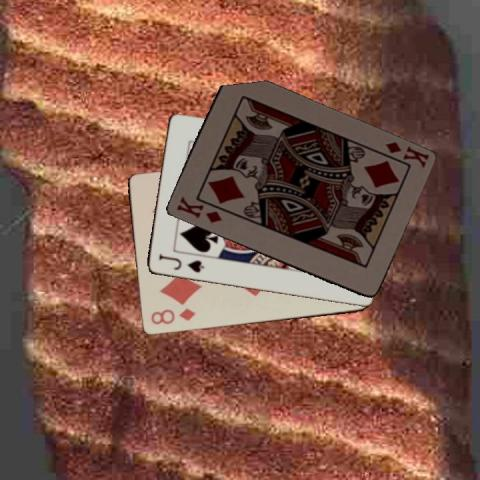8d: (147, 306, 197, 326)
Js: (156, 251, 206, 274)
Kd: (372, 139, 430, 169), (172, 194, 222, 225)
